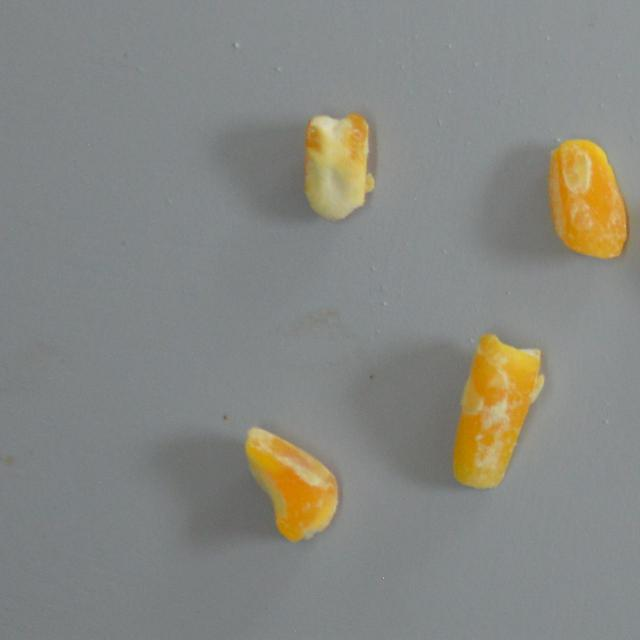dañado: (448, 324, 550, 493), (238, 422, 343, 546), (546, 130, 630, 264), (296, 107, 380, 229)
